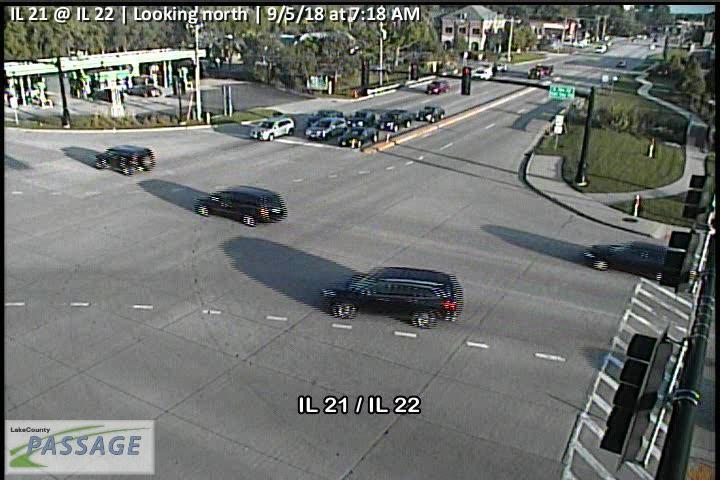SUV: (319, 265, 464, 329), (194, 185, 287, 227), (95, 144, 156, 175), (249, 115, 295, 141), (304, 116, 346, 141), (377, 109, 415, 132), (426, 80, 449, 94)
Sedan: (582, 240, 683, 281), (336, 126, 380, 147), (306, 109, 344, 126), (414, 105, 446, 123), (346, 109, 375, 127)
